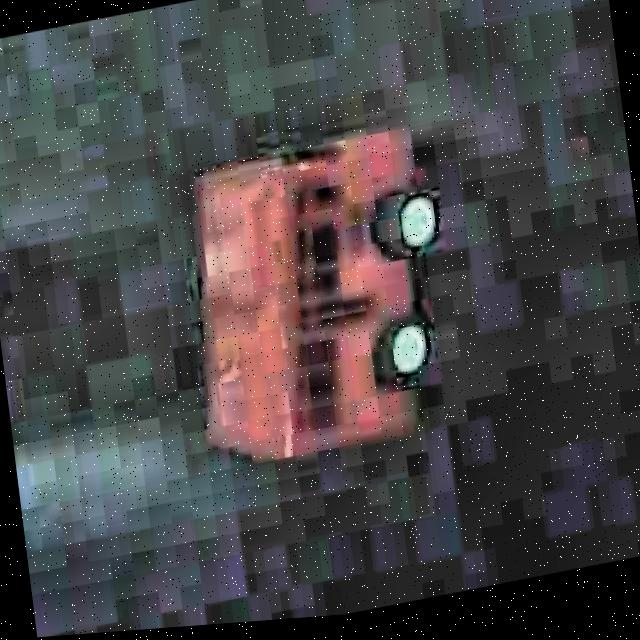bus: (165, 104, 467, 482)
